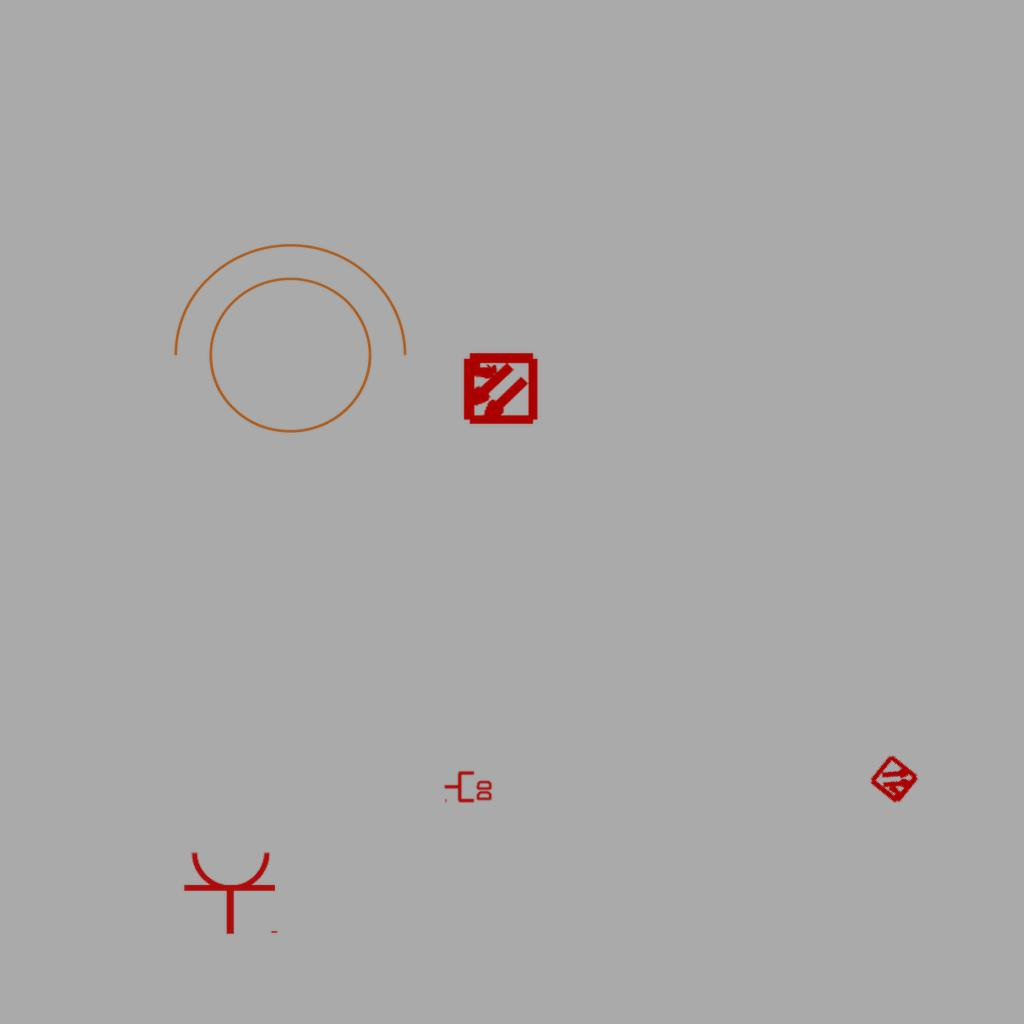Datenanschluss_zweifach: (443, 769, 494, 803)
OT_Multisensormelder_(Kombination_RMO_WMD): (442, 332, 555, 445), (855, 740, 935, 820)
Scheinwerfer_fuer_Alarmbeleuchtung: (152, 233, 416, 458)
Schukosteckdose_einfach: (182, 849, 282, 936)
